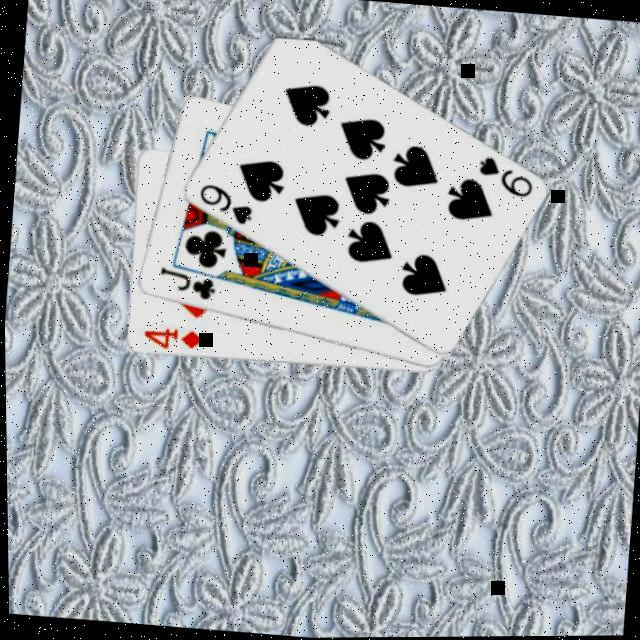4D: (138, 322, 204, 353)
9S: (192, 178, 258, 228), (472, 152, 537, 201)
JC: (154, 262, 218, 304)
